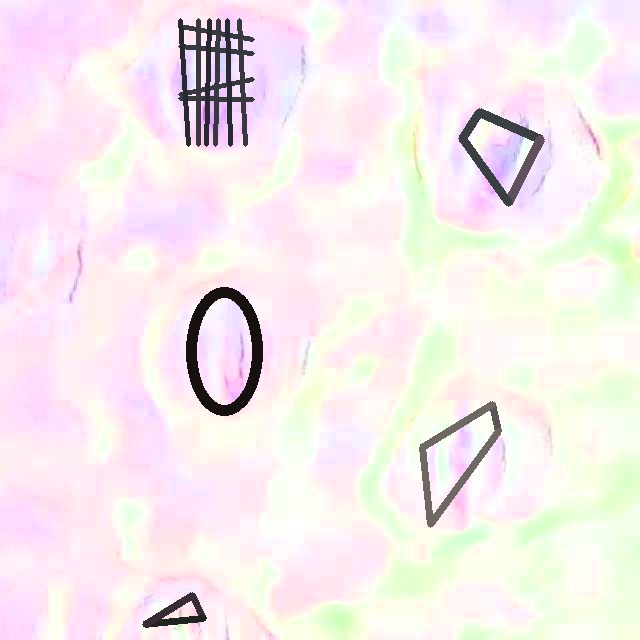open: (419, 402, 501, 527), (186, 286, 263, 416), (179, 19, 253, 146), (458, 109, 543, 205), (142, 592, 206, 626)
